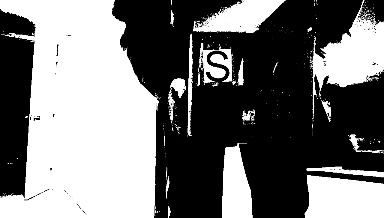S: (201, 48, 231, 81)
